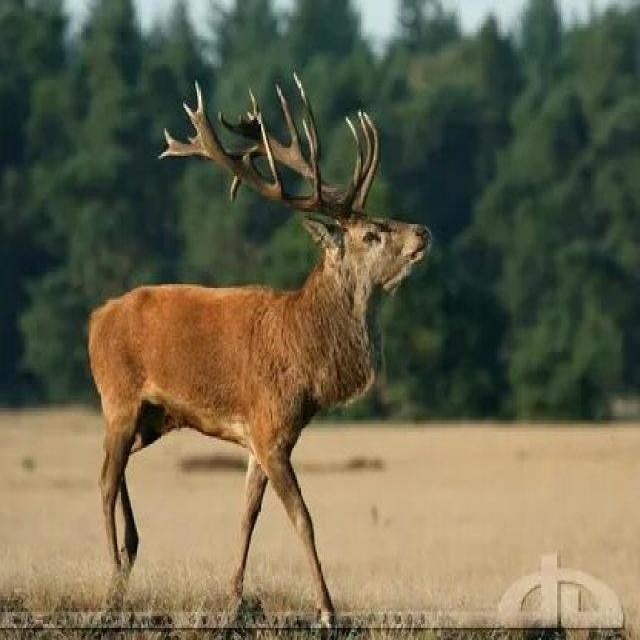deer: (59, 40, 446, 592)
